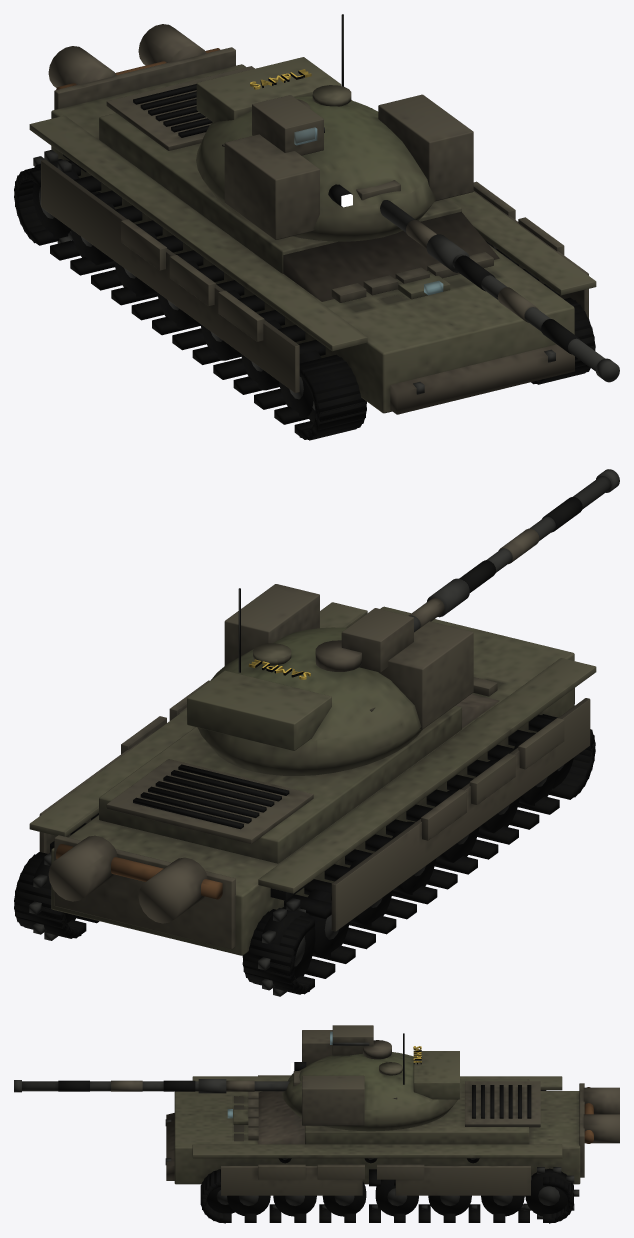
The model's file is sphere-mbt.glb.
The picture shows the model from 3 angles, top to bottom: view 1: azimuth 30°, elevation 25°; view 2: azimuth 150°, elevation 25°; view 3: azimuth 270°, elevation 25°; orthographic projection. The views are drawn at different scales.
Visible parts, largest first — view 1: hull_lower; view 2: hull_lower; view 3: hull_lower.
Part boxes in pixels (x1,y1,x2,y2): hull_lower: (14,14,619,440); hull_lower: (14,469,619,996); hull_lower: (14,1025,619,1223).
Bounding box in the file's own units: 3.28 × 2.78 × 9.18.
3 materials, 1 textured.
